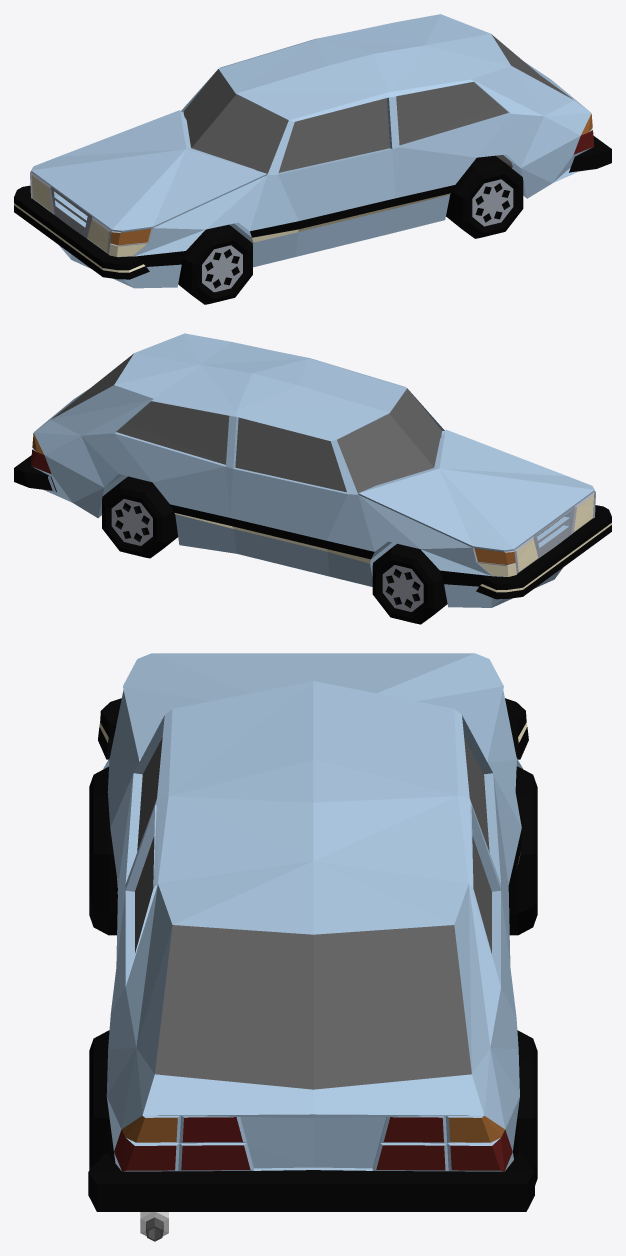
Rendered from Car_4.fbx.
The picture shows the model from 3 angles, top to bottom: view 1: azimuth 30°, elevation 25°; view 2: azimuth 150°, elevation 25°; view 3: azimuth 270°, elevation 25°; orthographic projection. The views are drawn at different scales.
Parts seen in each view (by area): view 1: car body.002, front wheels.009, front wheels.011; view 2: car body.002, front wheels.009, front wheels.011; view 3: car body.002, front wheels.011, front wheels.009.
Boxes of the visible parts, left/top/right/bottom form: car body.002: left=14, top=14, right=611, bottom=288; front wheels.009: left=446, top=155, right=523, bottom=238; front wheels.011: left=178, top=224, right=252, bottom=304; car body.002: left=14, top=333, right=611, bottom=607; front wheels.009: left=102, top=476, right=178, bottom=558; front wheels.011: left=372, top=543, right=447, bottom=624; car body.002: left=88, top=653, right=534, bottom=1211; front wheels.011: left=89, top=766, right=537, bottom=935; front wheels.009: left=89, top=1030, right=537, bottom=1185.
Size of the model in its own units: 11289 by 3419 by 4353.
